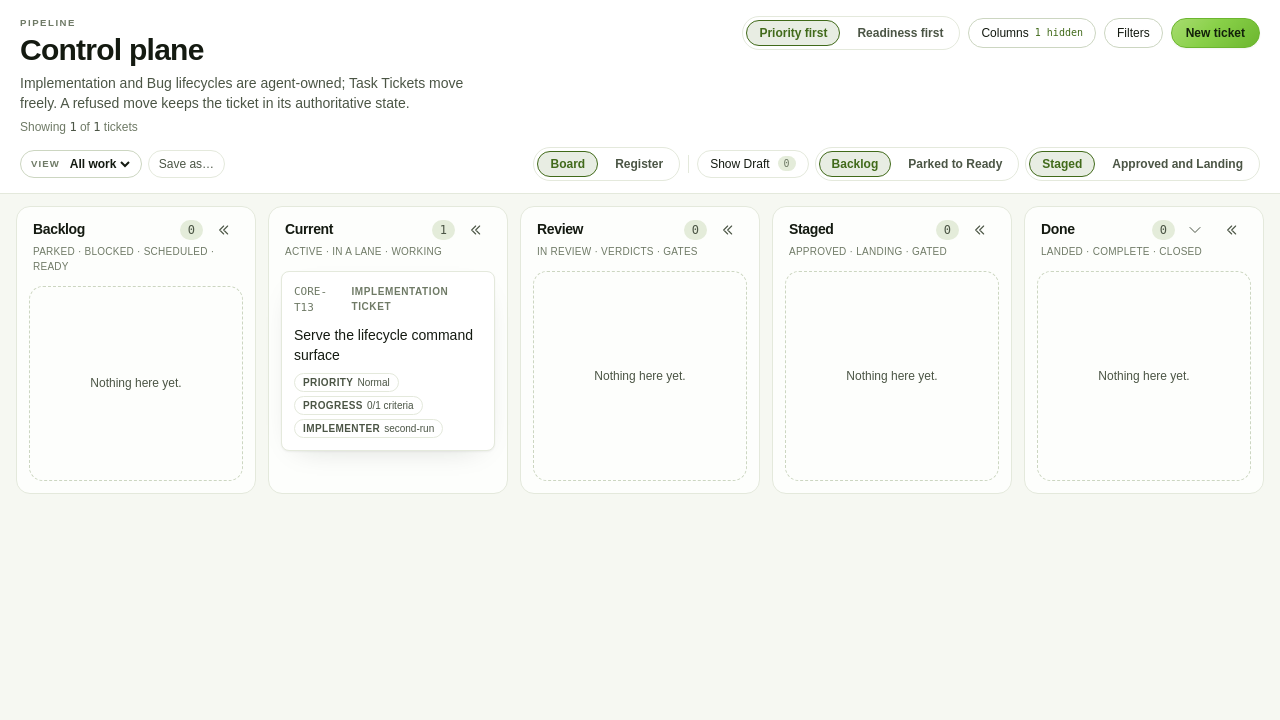
Test case: ticket drawer › lists every historical attempt for the open ticket
What coordinates should you click on to do the following:
click the button "Serve the lifecycle command surface"
I would click on:
 (388, 345)
Its box is [294, 325, 482, 365].
(page scrolled)
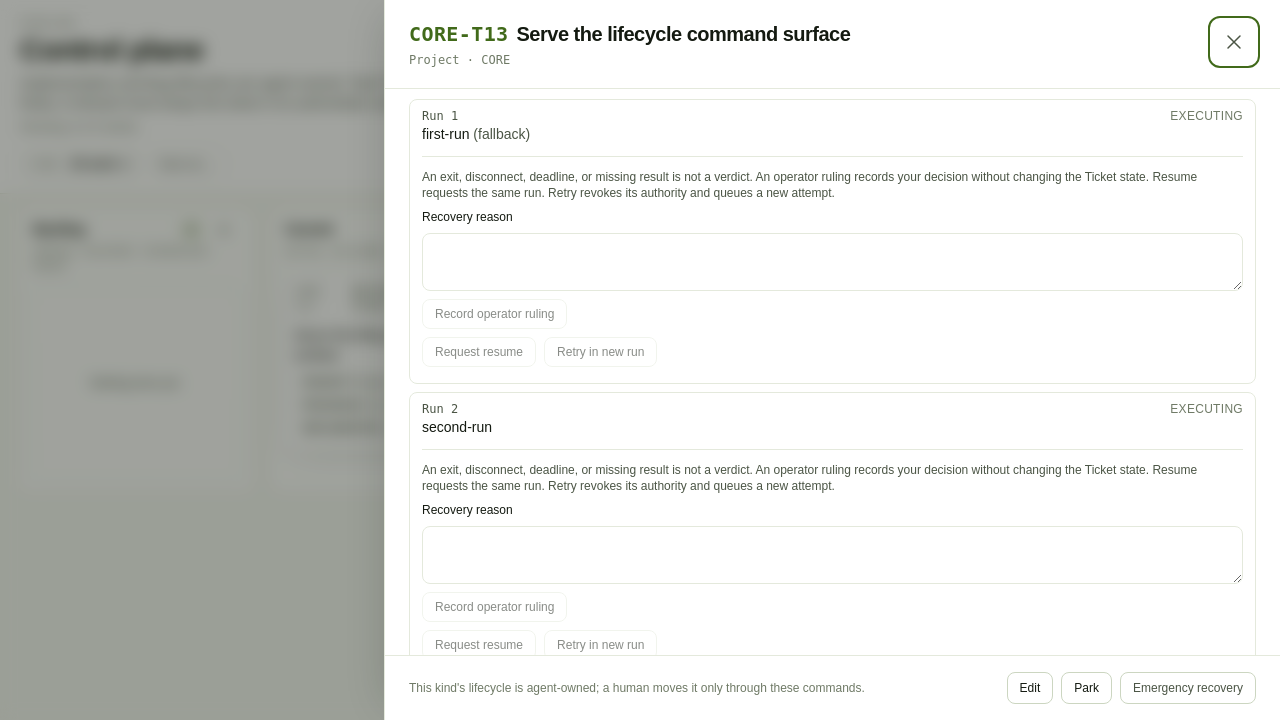
Expected: the element with test id "drawer-attempts" shows "first-run", [422, 126, 473, 142]
Expected: the element with test id "drawer-attempts" shows "second-run", [422, 419, 492, 435]
